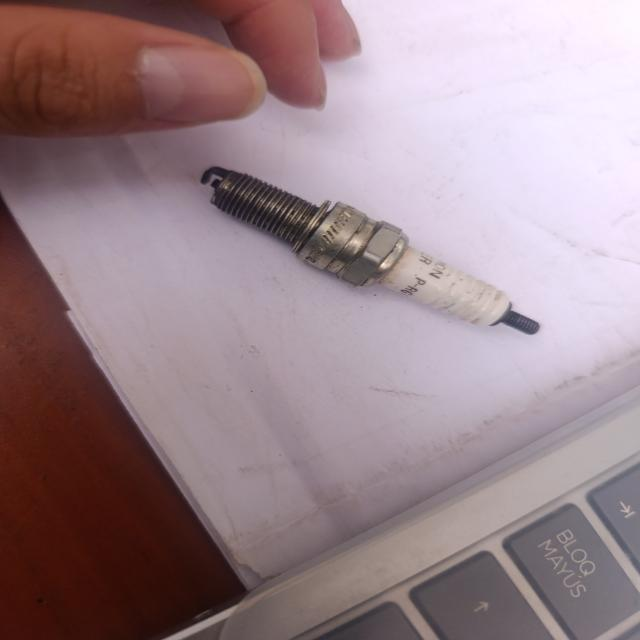bujia: (201, 167, 539, 335)
